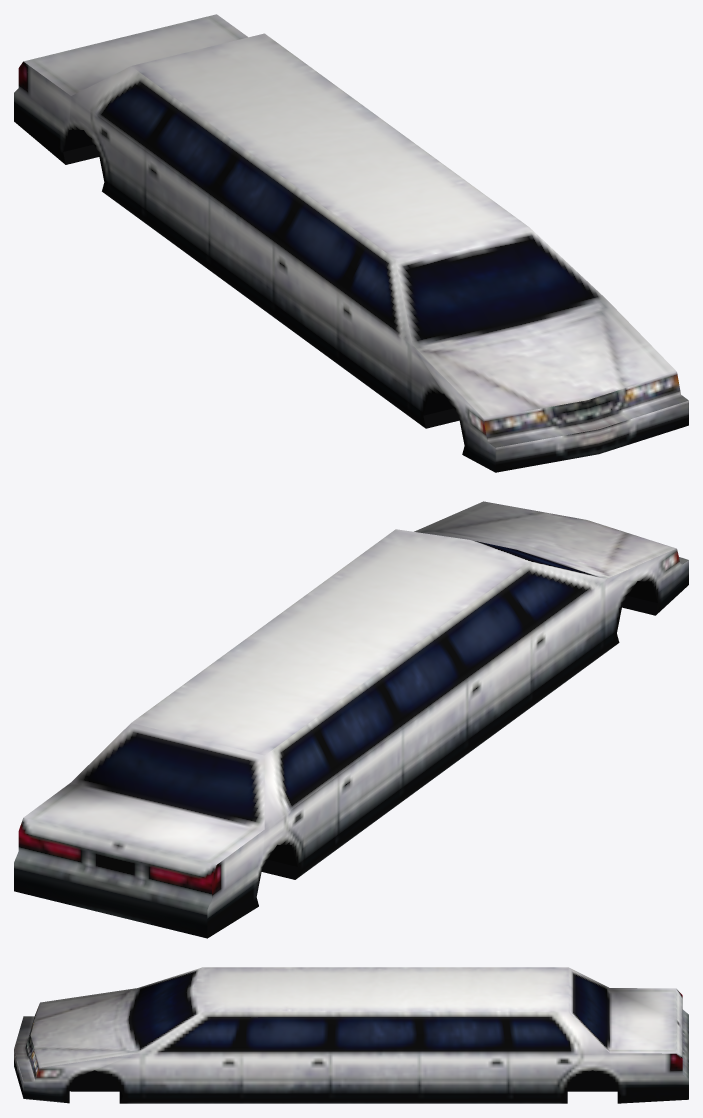
File: limo.obj
3 renders of one model, top to bottom at view 1: azimuth 30°, elevation 25°; view 2: azimuth 150°, elevation 25°; view 3: azimuth 270°, elevation 25°, orthographic. The views are drawn at different scales.
Parts seen in each view (by area): view 1: LimoMAIN_NULL0004; view 2: LimoMAIN_NULL0004; view 3: LimoMAIN_NULL0004.
Part boxes in pixels (bbox=[...]): LimoMAIN_NULL0004: bbox=[14, 14, 688, 472]; LimoMAIN_NULL0004: bbox=[14, 501, 688, 938]; LimoMAIN_NULL0004: bbox=[14, 967, 688, 1103].
Size of the model in its own units: 1.86 by 1.08 by 8.13.
